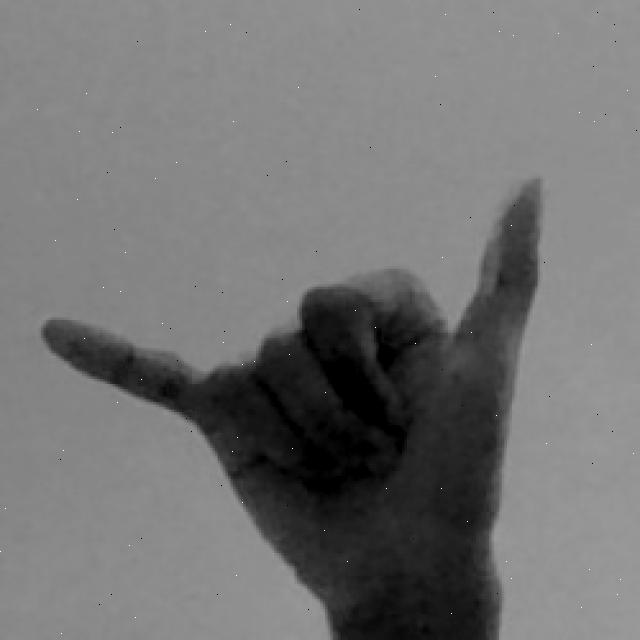Y: (37, 165, 554, 640)
